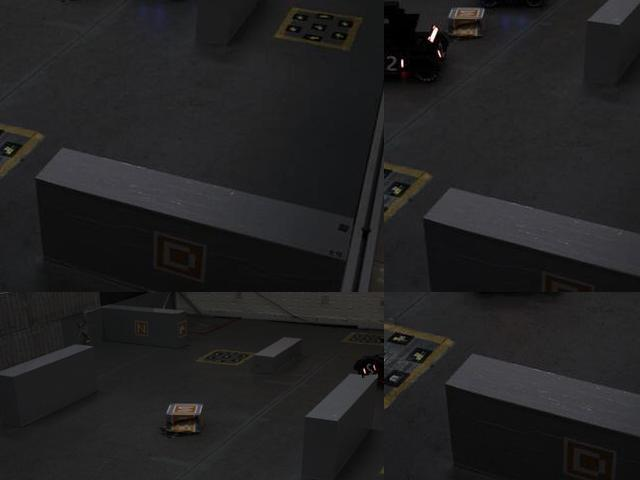armor: (384, 53, 409, 76), (362, 360, 379, 380)
